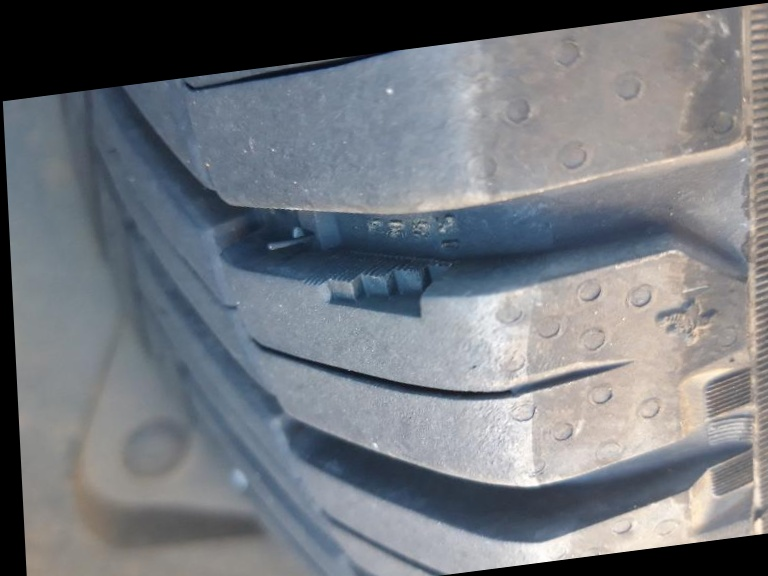temoin:90: (295, 232, 466, 342)
